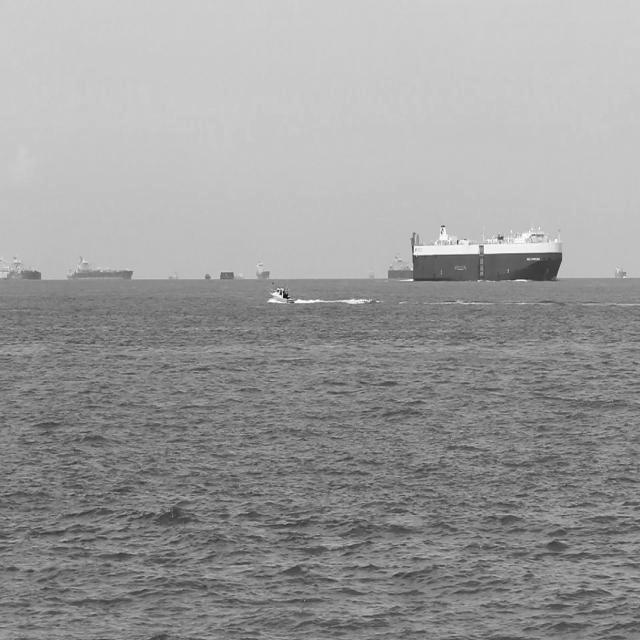ship: (408, 220, 566, 286), (61, 249, 136, 281), (0, 254, 47, 283), (264, 280, 298, 308), (383, 259, 412, 281), (252, 258, 272, 284), (612, 258, 630, 284)
